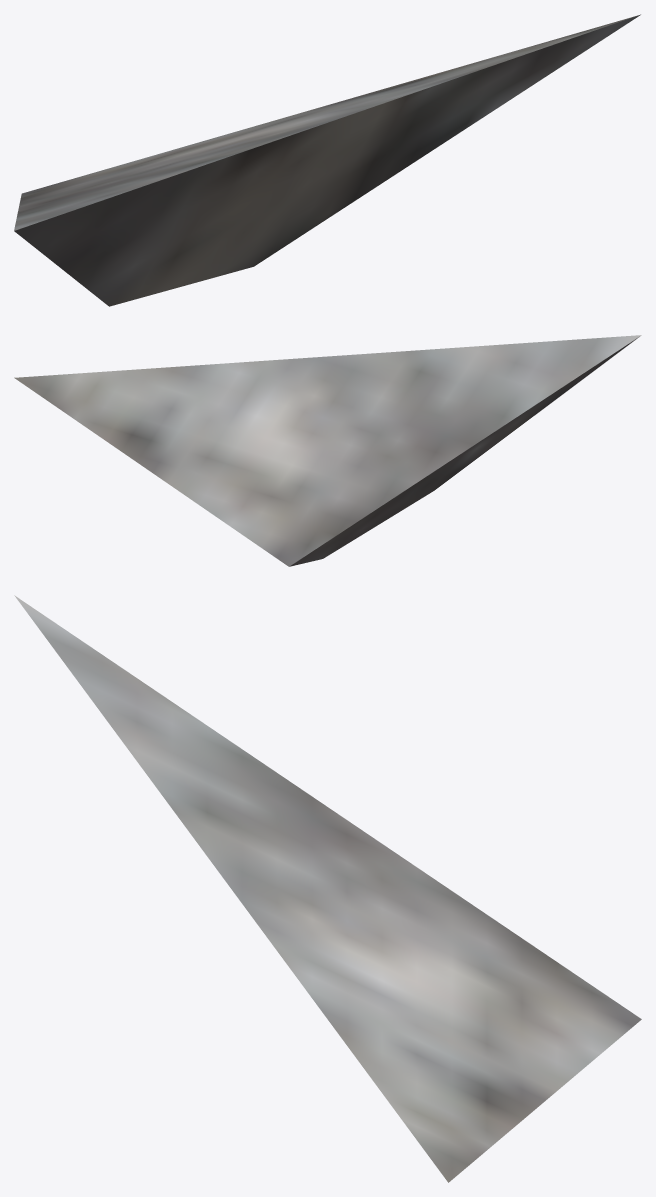
Rendered from Asteroid_Large_001_02_007_03_001.fbx.
The picture shows the model from 3 angles, top to bottom: view 1: azimuth 30°, elevation 25°; view 2: azimuth 150°, elevation 25°; view 3: azimuth 270°, elevation 25°; orthographic projection. The views are drawn at different scales.
Parts seen in each view (by area): view 1: Asteroid_Large_001_02_007_03_001; view 2: Asteroid_Large_001_02_007_03_001; view 3: Asteroid_Large_001_02_007_03_001.
Part boxes in pixels (x1,y1,x2,y2): Asteroid_Large_001_02_007_03_001: (14, 14, 640, 306); Asteroid_Large_001_02_007_03_001: (14, 335, 641, 566); Asteroid_Large_001_02_007_03_001: (14, 595, 641, 1182).
Bounding box in the file's own units: 1.32 × 0.418 × 0.7831.
